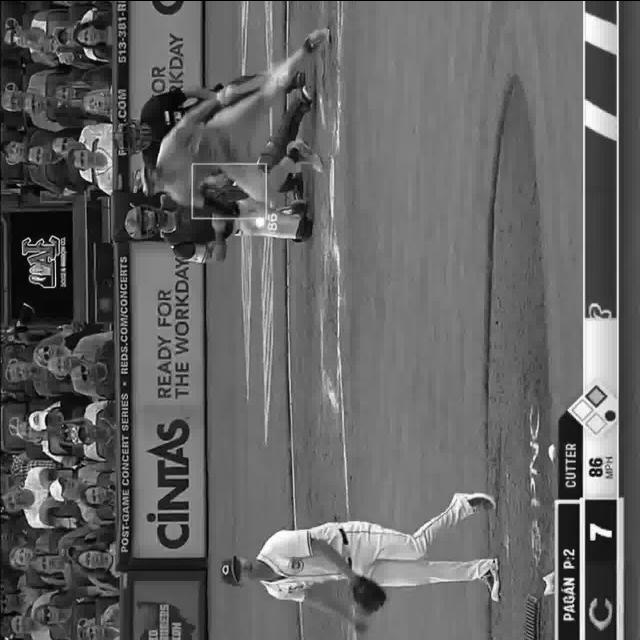base: (326, 154, 334, 222)
baseball_glove: (348, 571, 384, 617), (207, 180, 245, 212)
bat: (233, 62, 291, 92)
shoe: (286, 130, 328, 174), (476, 554, 510, 606), (452, 490, 496, 519), (302, 22, 336, 45)
